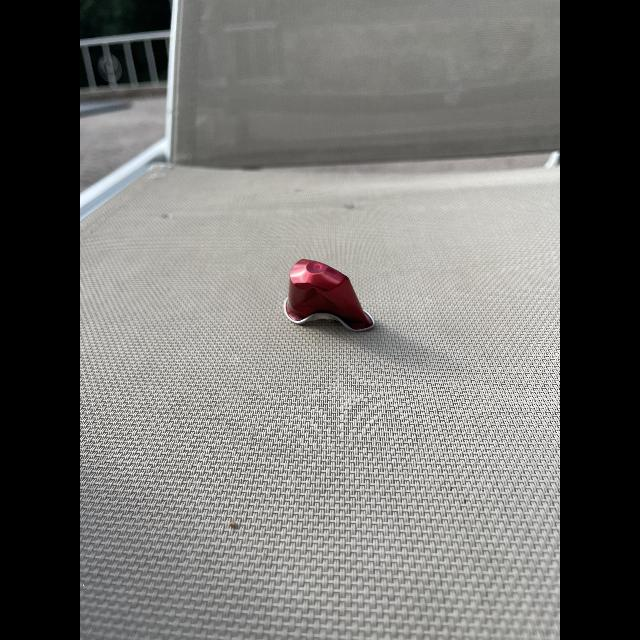damaged_capsule: (280, 254, 382, 334)
